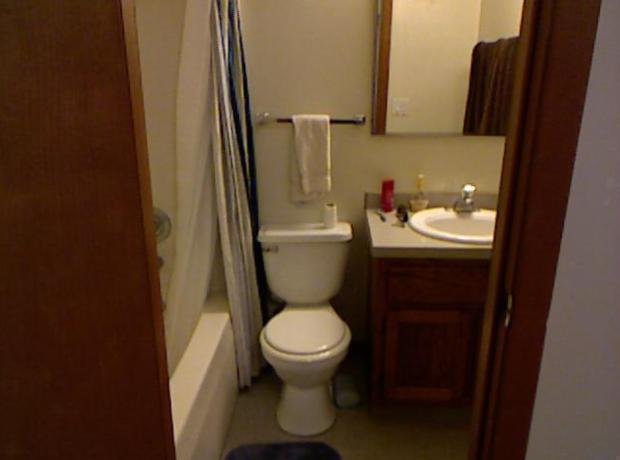Lavamanos: (408, 181, 497, 245)
Sanitario: (249, 218, 354, 433)
